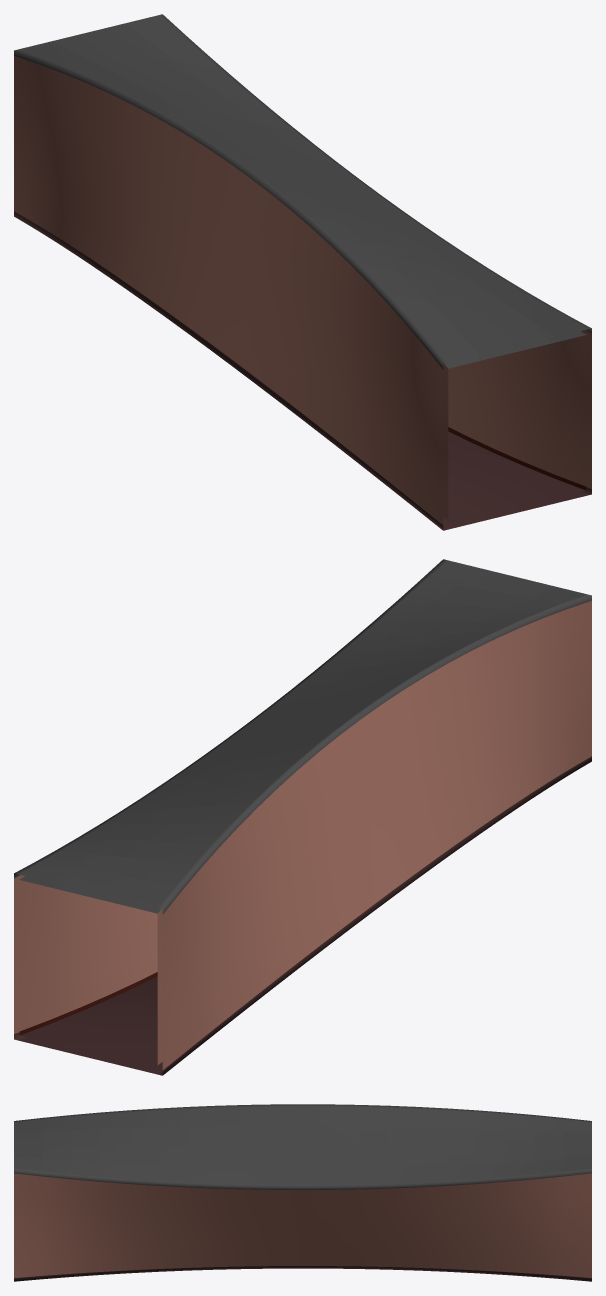
Rendered from CouloirDeforme.fbx.
3 views of the same model, one above another, from view 1: azimuth 30°, elevation 25°; view 2: azimuth 150°, elevation 25°; view 3: azimuth 270°, elevation 25° (orthographic). The views are drawn at different scales.
Parts seen in each view (by area): view 1: CouloirDeforme; view 2: CouloirDeforme; view 3: CouloirDeforme.
Part boxes in pixels (x1=…): CouloirDeforme: x1=14, y1=14, x2=591, y2=530; CouloirDeforme: x1=14, y1=559, x2=591, y2=1075; CouloirDeforme: x1=14, y1=1104, x2=591, y2=1281.
Bounding box in the file's own units: 520 × 534 × 2000.
